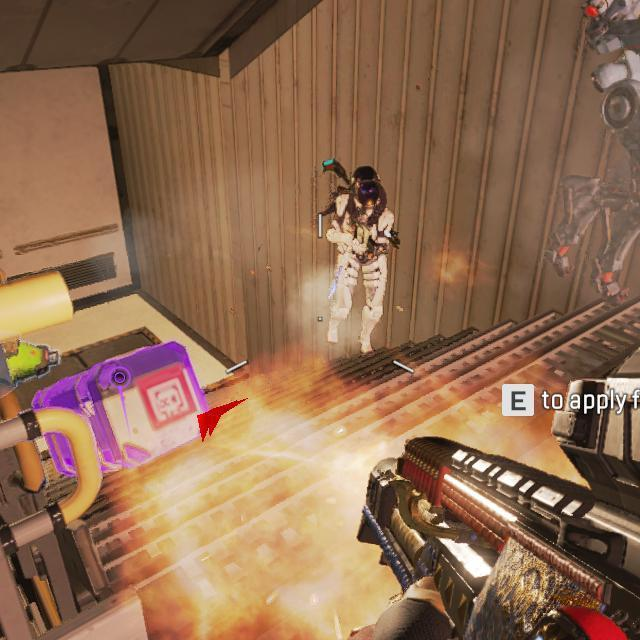avatar: (324, 164, 397, 354)
